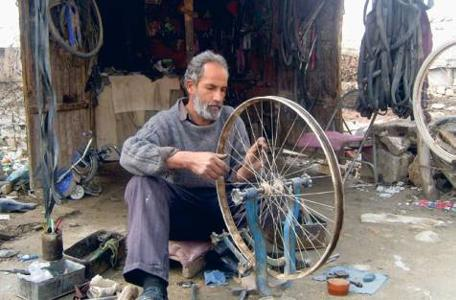person: (116, 49, 269, 300)
